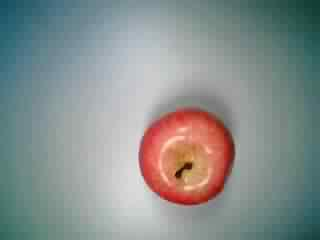apple: (136, 102, 242, 206)
